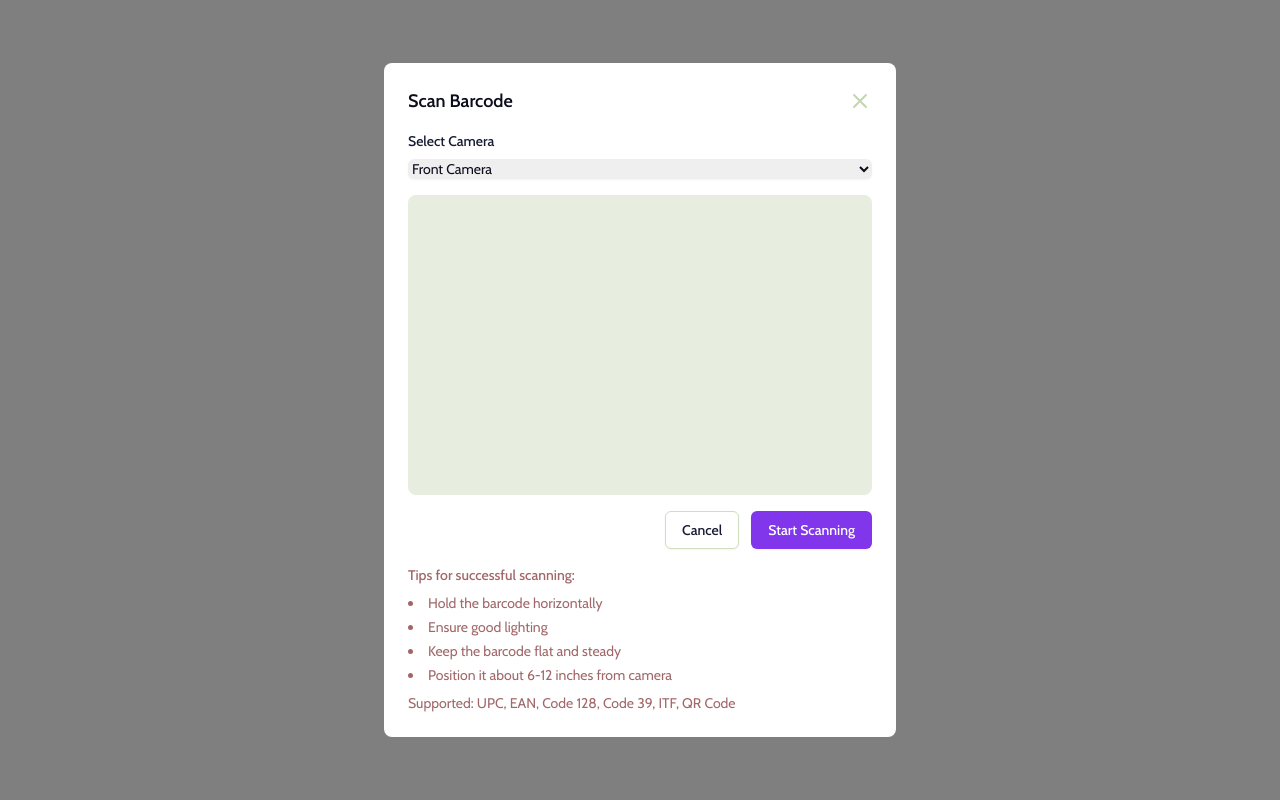
Test: BarcodeScanner › surfaces a start error
Click the button "Start Scanning": x=812, y=530 [751,511,872,549]
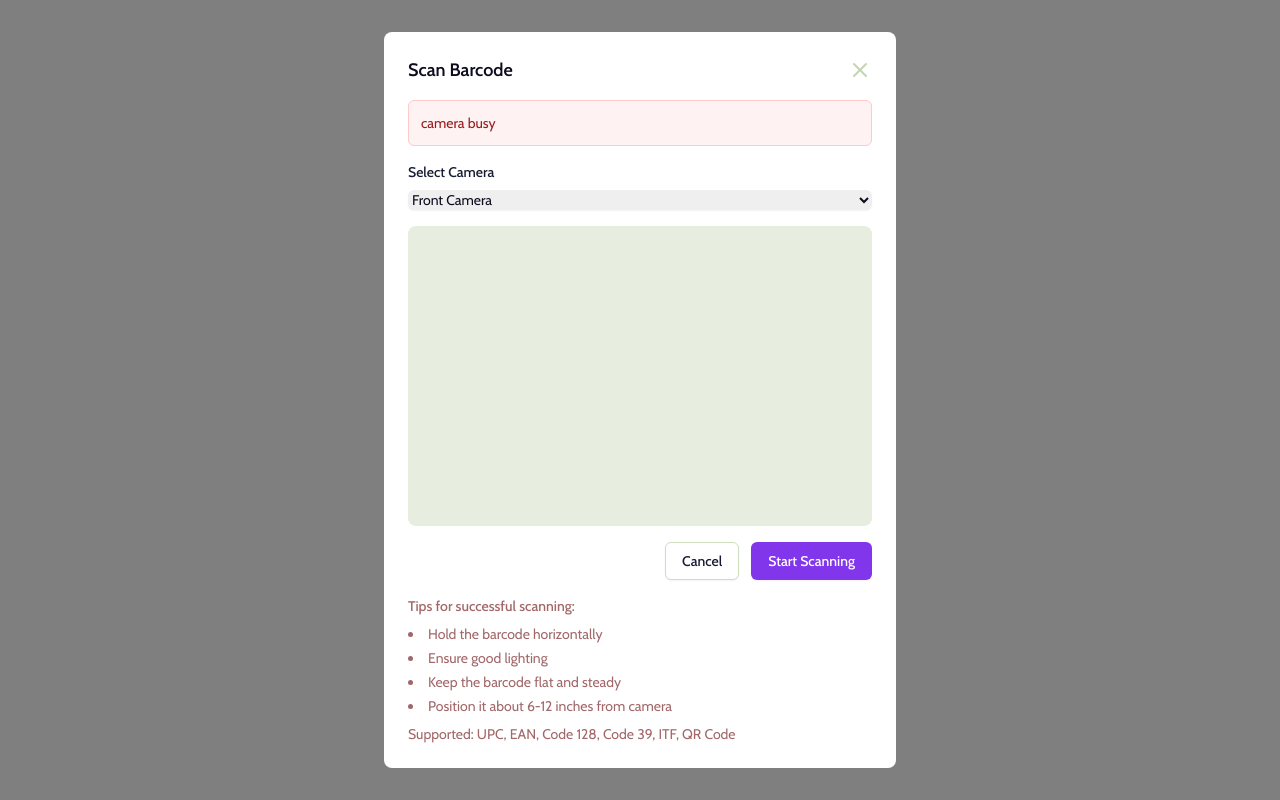
Result: the text "camera busy" is shown at [421,114,496,132]
